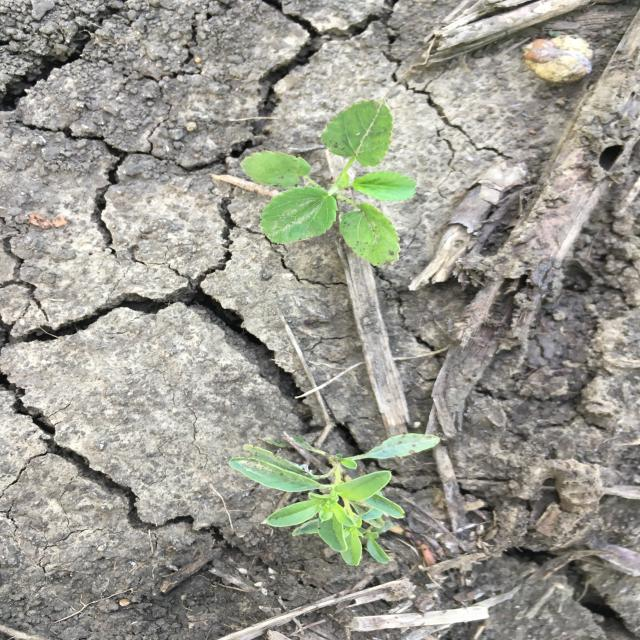PricklySida: (236, 98, 424, 272)
Waterhemp: (226, 431, 444, 569)
